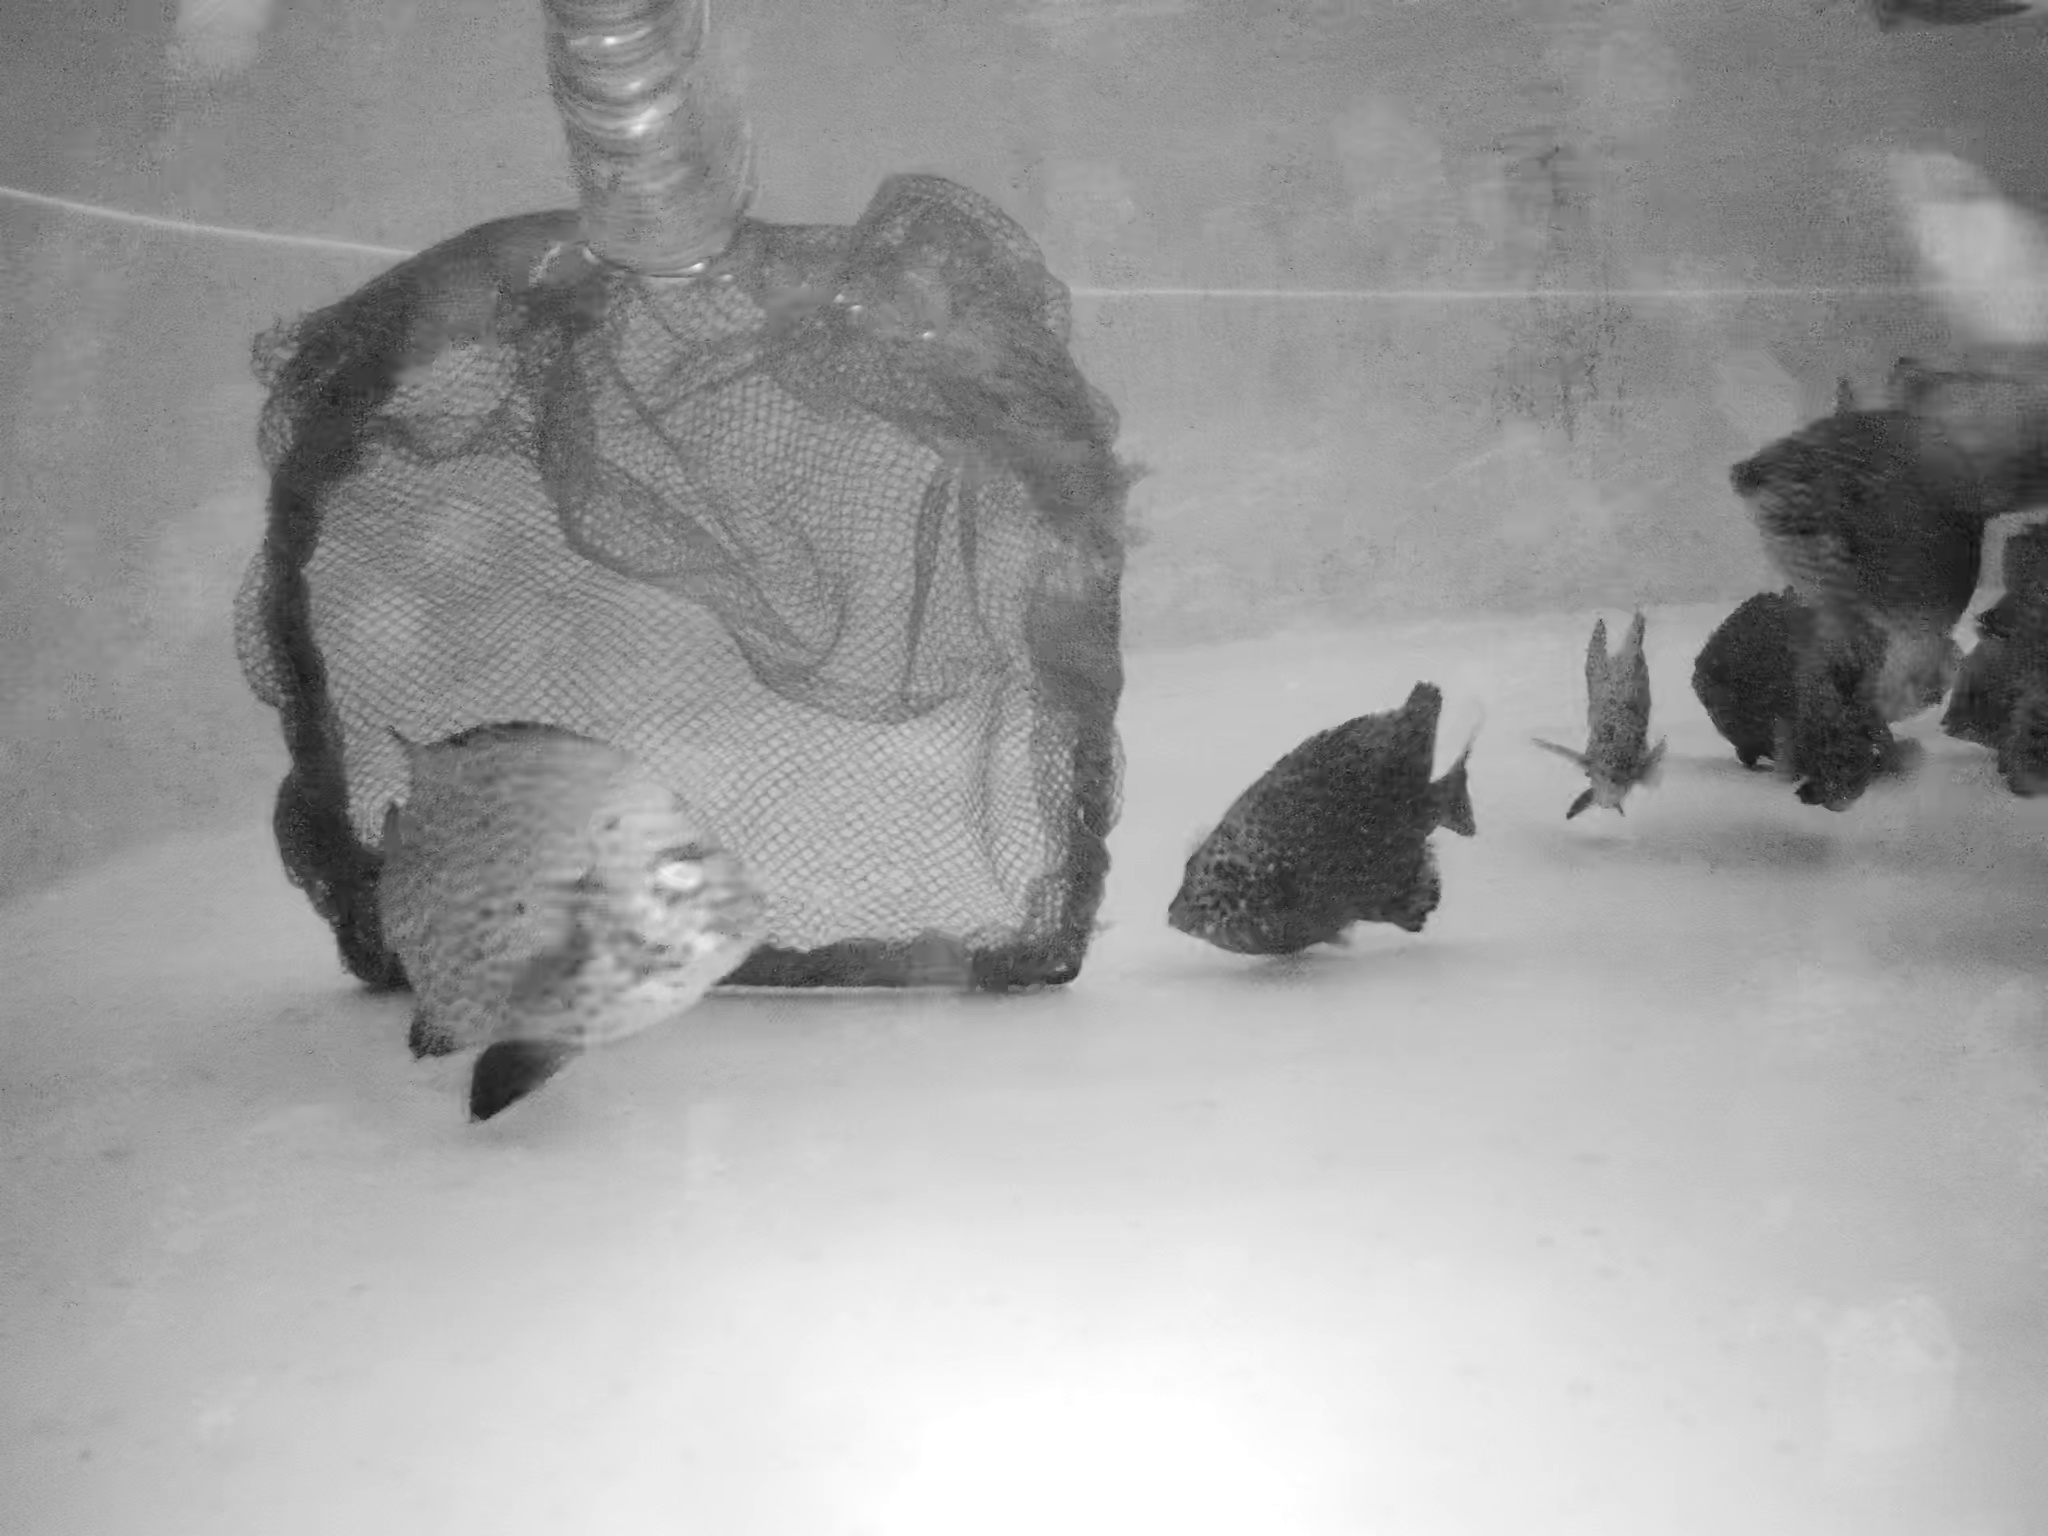fish: (358, 733, 760, 1105), (1155, 681, 1501, 944), (1717, 419, 1992, 658), (1930, 524, 2048, 783), (1548, 615, 1687, 833), (1706, 587, 1835, 787), (1800, 613, 1888, 803)
